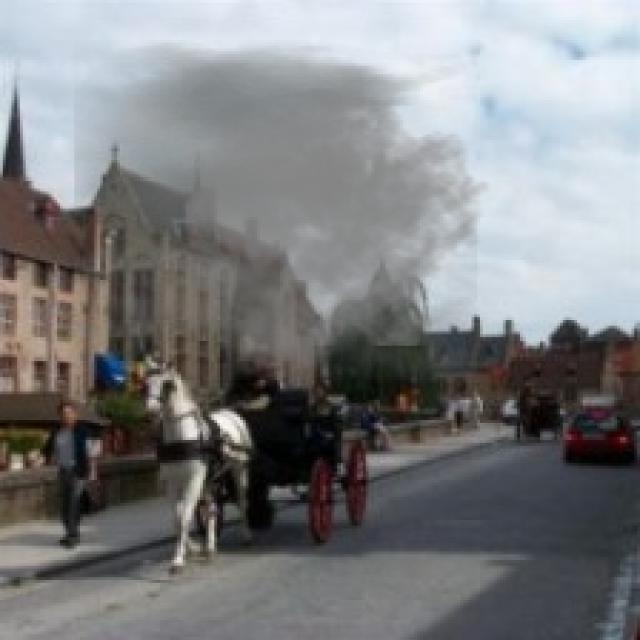smoke: (74, 40, 492, 383)
